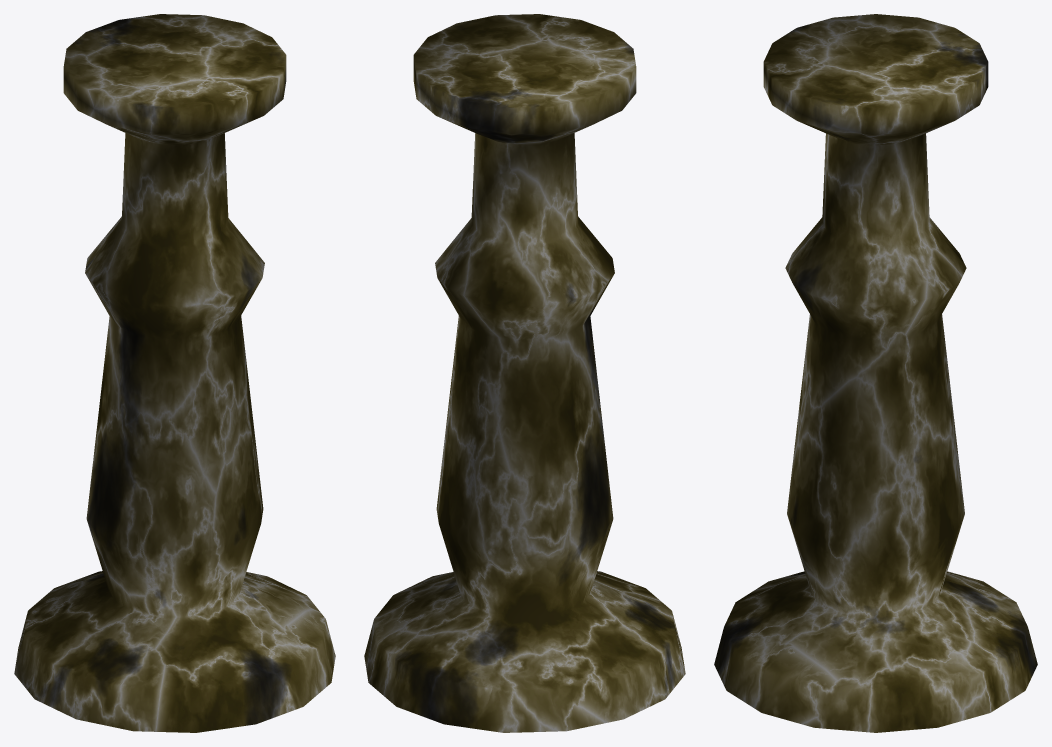
The model's file is candlestick.glb.
The picture shows the model from 3 angles, left to right: view 1: azimuth 30°, elevation 25°; view 2: azimuth 150°, elevation 25°; view 3: azimuth 270°, elevation 25°; orthographic projection.
Parts seen in each view (by area): view 1: candlestick; view 2: candlestick; view 3: candlestick.
Boxes of the visible parts, x1=… form: candlestick: x1=14, y1=14, x2=335, y2=732; candlestick: x1=364, y1=14, x2=685, y2=732; candlestick: x1=714, y1=14, x2=1037, y2=732.
Size of the model in its own units: 0.4913 by 1.01 by 0.4913.
Materials: 1 (1 with a texture image).
